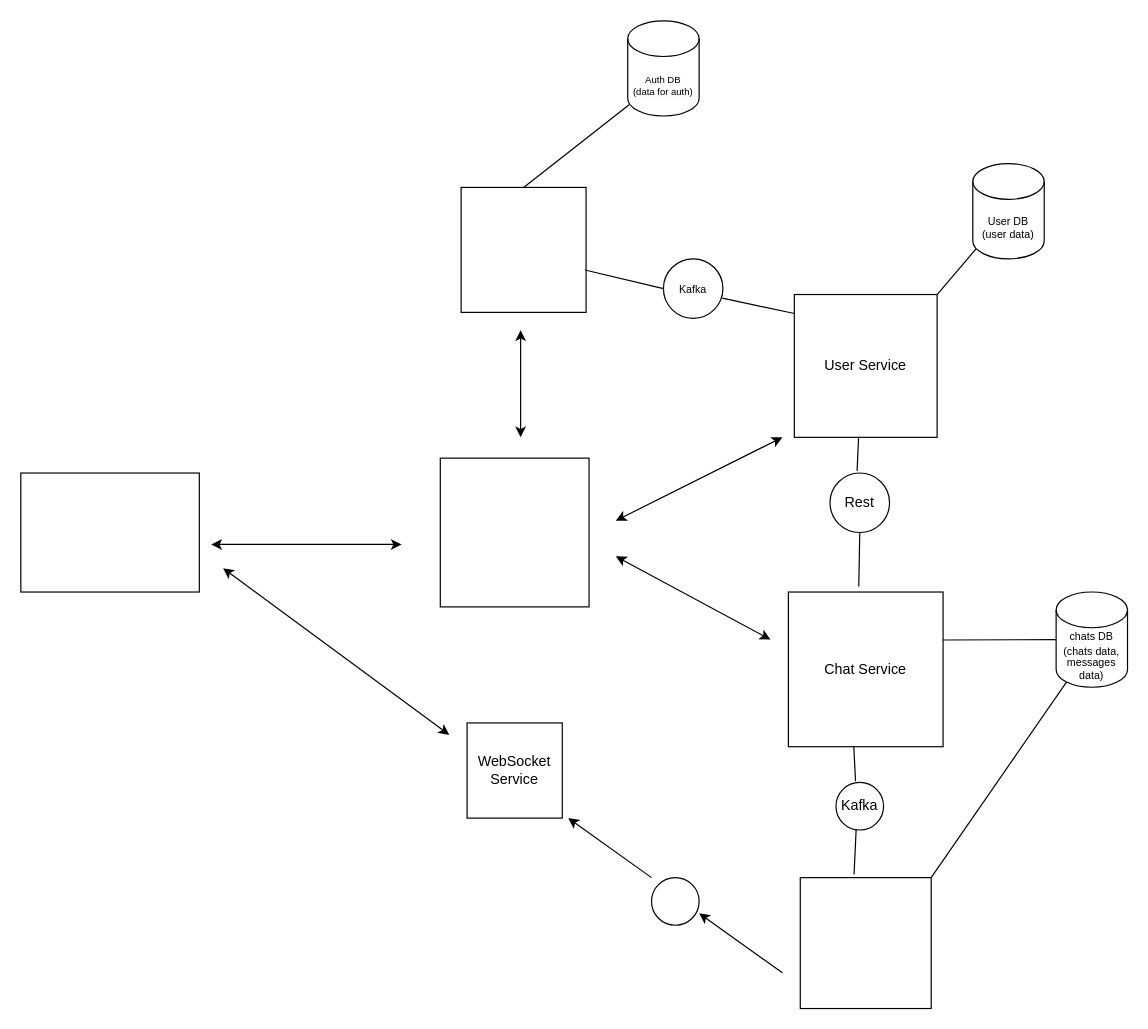
Image size: 1148x1029. Some labels were removed from this diagram. The shapes that lost their labels are listed below. From the top down, each one's centre as x and y in pixels, then its label:
point 523,249: Auth Service
point 109,532: Frontend
point 514,532: Api Gateway
point 674,900: Rabbit Mq
point 865,942: Notification Service
